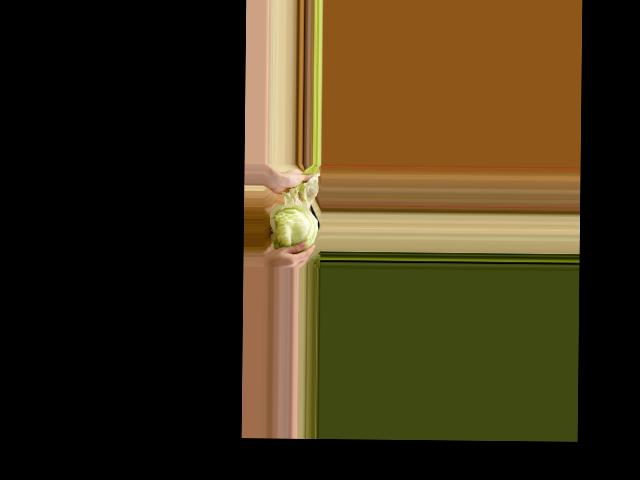lettuce: (266, 193, 320, 254)
